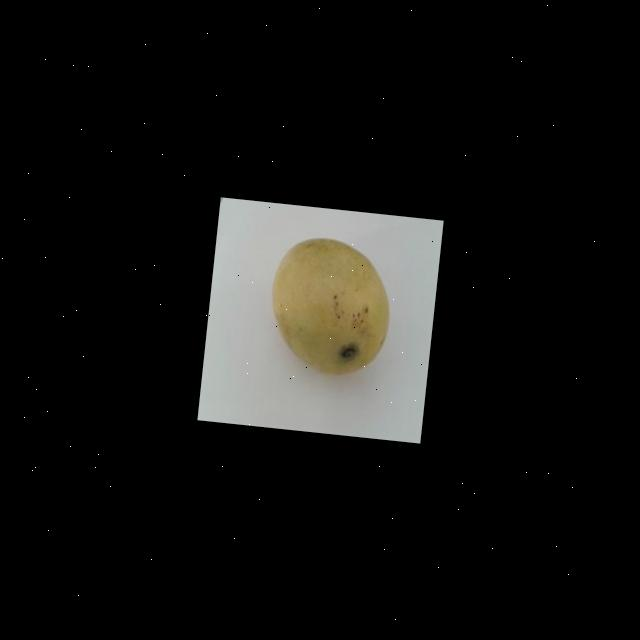Mango: (264, 231, 398, 379)
